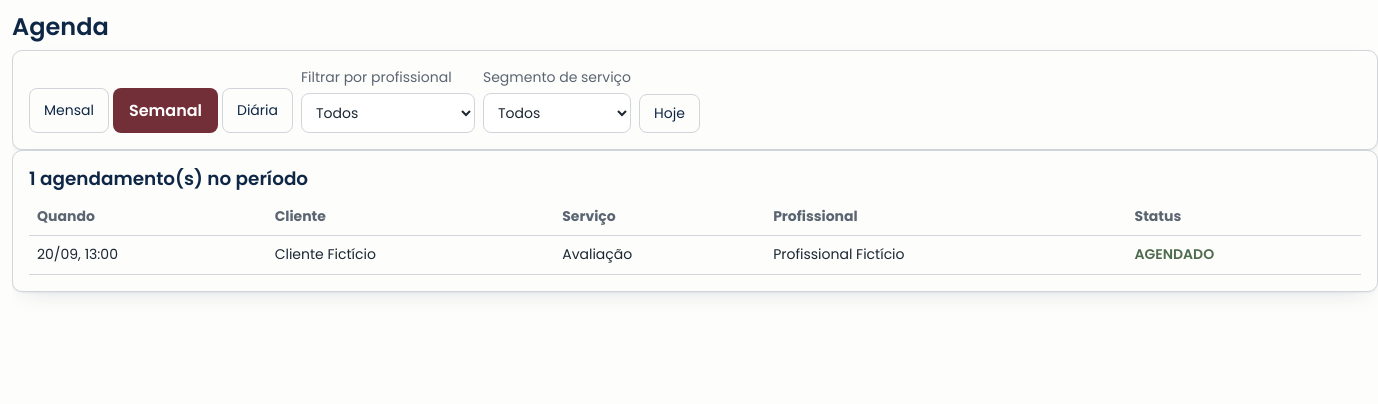
Test: F-04 — disponibilidade por profissional (requisito do Prompt 3.1) › escolher um profissional consulta e exibe as faixas ocupadas
Select "Profissional Fictício" in the dropdown labelled "Filtrar por profissional" at (388, 113), box [301,93,475,133]
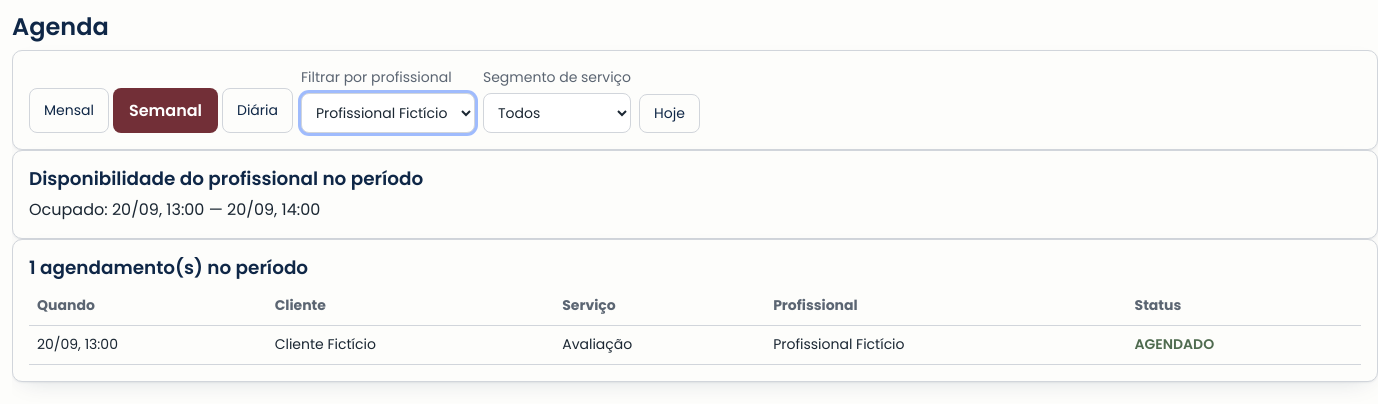
Now the heading "Disponibilidade do profissional no período" is shown, box [29,166,423,191]
Now the list item "Ocupado: 20/09, 13:00 — 20/09, 14:00" is shown, box [29,198,320,221]
